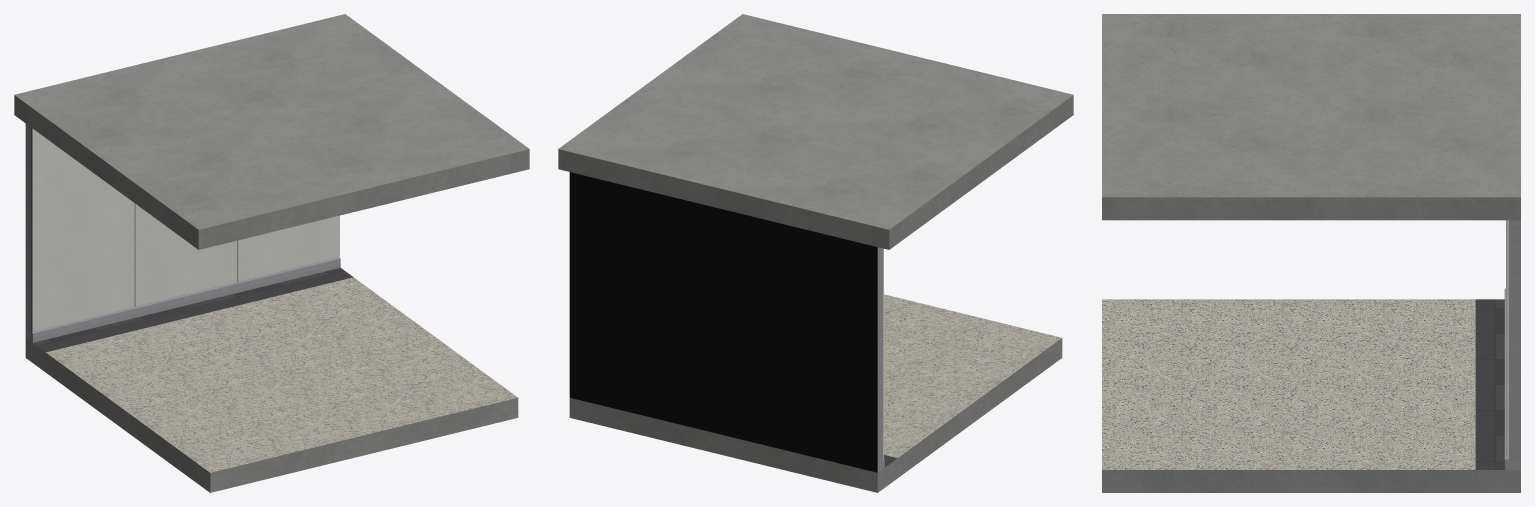
The model's file is gteki_passage_tee_w4.glb.
3 renders of one model, left to right at view 1: azimuth 30°, elevation 25°; view 2: azimuth 150°, elevation 25°; view 3: azimuth 270°, elevation 25°, orthographic. The views are drawn at different scales.
Visible parts, largest first — view 1: VIS_ceiling, VIS_floor, VIS_walls; view 2: VIS_walls, VIS_ceiling, VIS_floor; view 3: VIS_ceiling, VIS_floor, VIS_walls.
Boxes of the visible parts, x1,y1,x2,y2 form: VIS_ceiling: (14,14,529,249); VIS_floor: (25,268,518,492); VIS_walls: (25,123,340,342); VIS_walls: (569,172,884,472); VIS_ceiling: (558,14,1073,249); VIS_floor: (569,294,1062,492); VIS_ceiling: (1102,14,1520,220); VIS_floor: (1102,299,1520,492); VIS_walls: (1504,220,1520,469).
Size of what is drawn, in the model's own units: 4.3 by 3.3 by 4.15.
9 materials, 6 textured.
